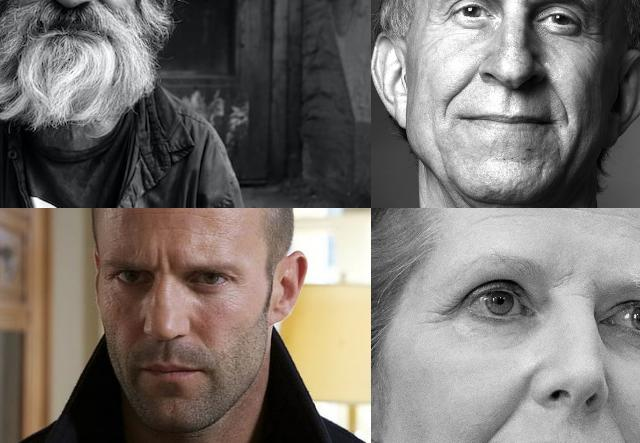crows_feet: (426, 302, 458, 332), (578, 20, 600, 50), (438, 5, 452, 26)
forehead: (471, 208, 530, 233), (560, 208, 617, 225), (137, 208, 194, 220), (181, 226, 217, 238), (628, 226, 640, 256)
frown_line: (152, 248, 176, 282), (552, 267, 574, 289), (587, 274, 601, 292)
gummy_smile: (485, 400, 515, 443), (444, 70, 474, 111), (546, 81, 574, 118), (612, 420, 638, 443), (88, 0, 110, 9)
masseter: (432, 145, 448, 175)
